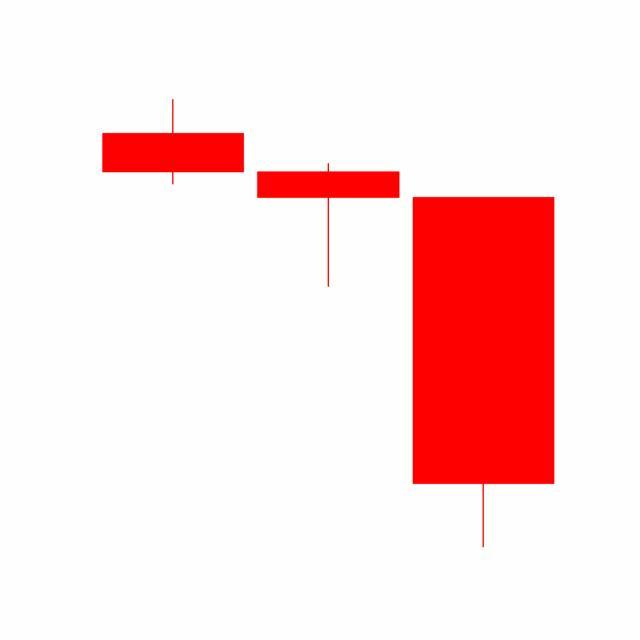Hammer: (250, 162, 407, 289)
